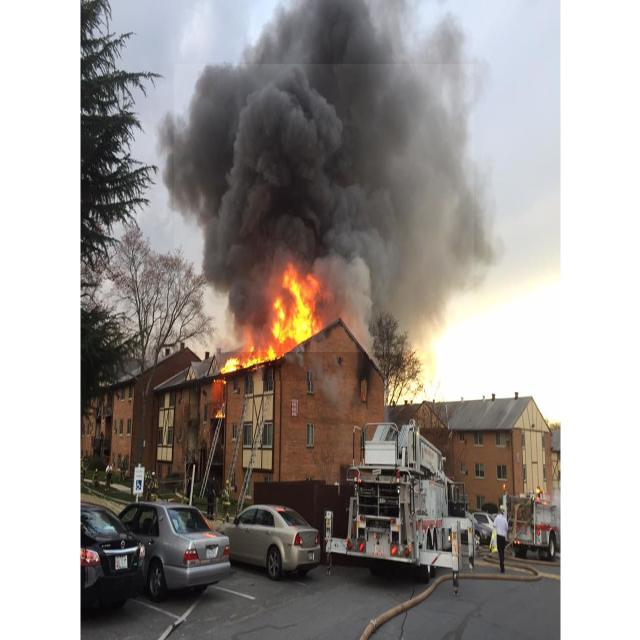Fire: (226, 274, 326, 381)
Smoke: (174, 64, 474, 352)
